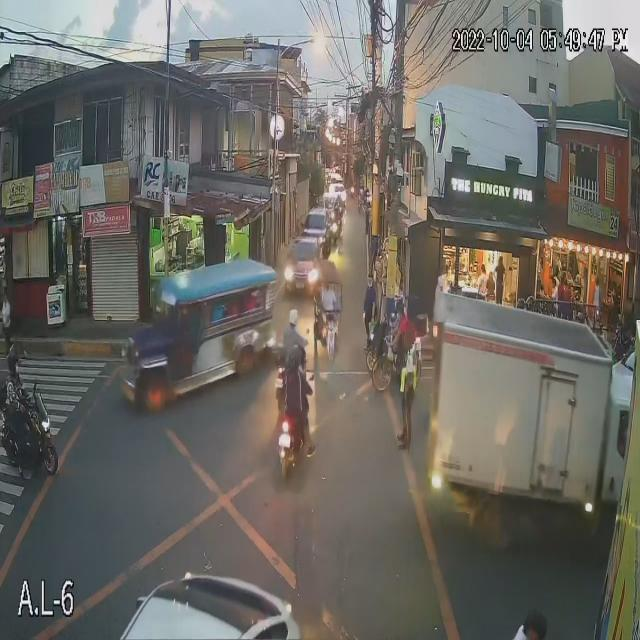helmet: (4, 335, 27, 387), (280, 345, 312, 372), (286, 304, 302, 331)
motorcycle: (254, 398, 321, 483), (4, 388, 63, 471), (265, 347, 311, 402)
rider: (275, 353, 311, 439), (2, 337, 27, 444), (277, 302, 303, 365)
